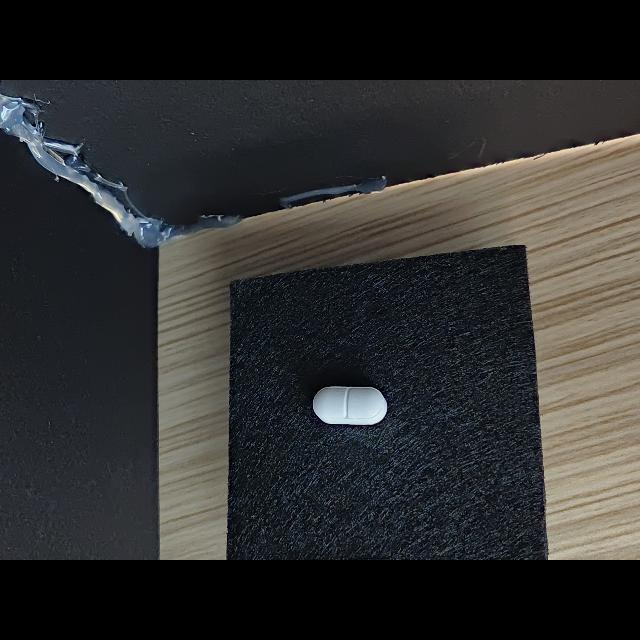Intact Pill: (313, 386, 387, 425)
